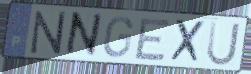E: (132, 17, 173, 62)
G: (101, 15, 135, 59)
N: (62, 11, 104, 59), (29, 10, 67, 56)
U: (205, 20, 242, 68)
X: (168, 18, 207, 65)
